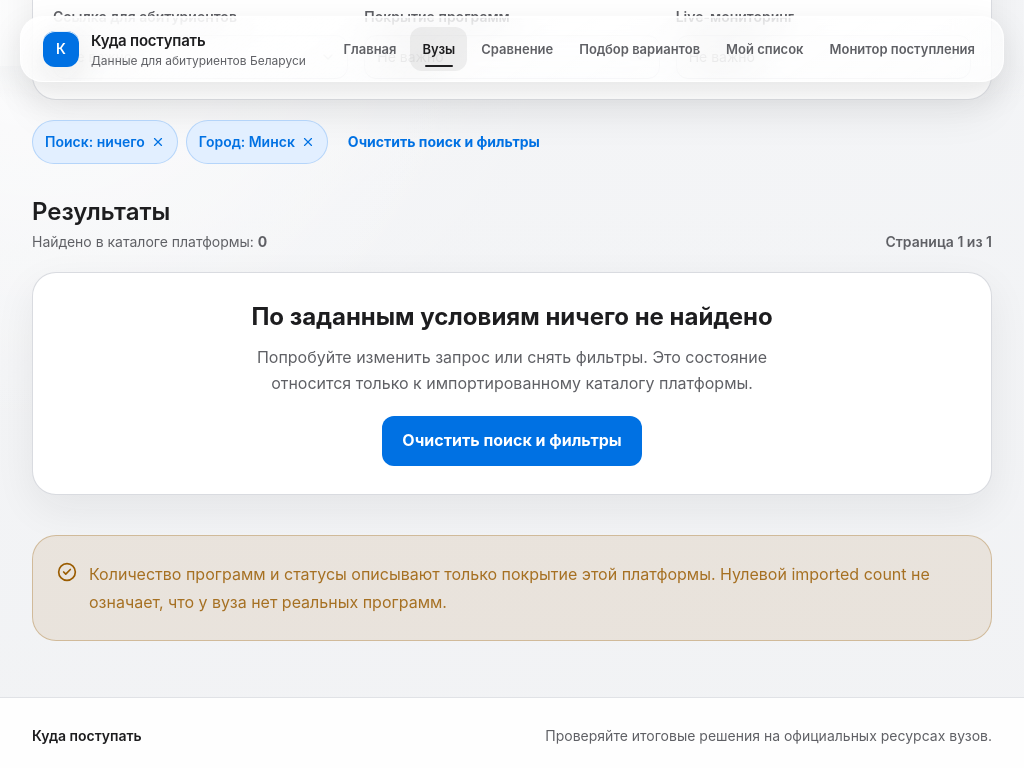
Test: loading, error and empty states › shows a distinct empty state and clears search and filters from it
The width and height of the screenshot is (1024, 768).
(page scrolled)
expect the heading "По заданным условиям ничего не найдено" is shown: met, box [251,302,773,331]
Click the button "Очистить поиск и фильтры" below "По заданным условиям ничего не найдено" at (512, 441), box [382,416,642,466]
(page scrolled)
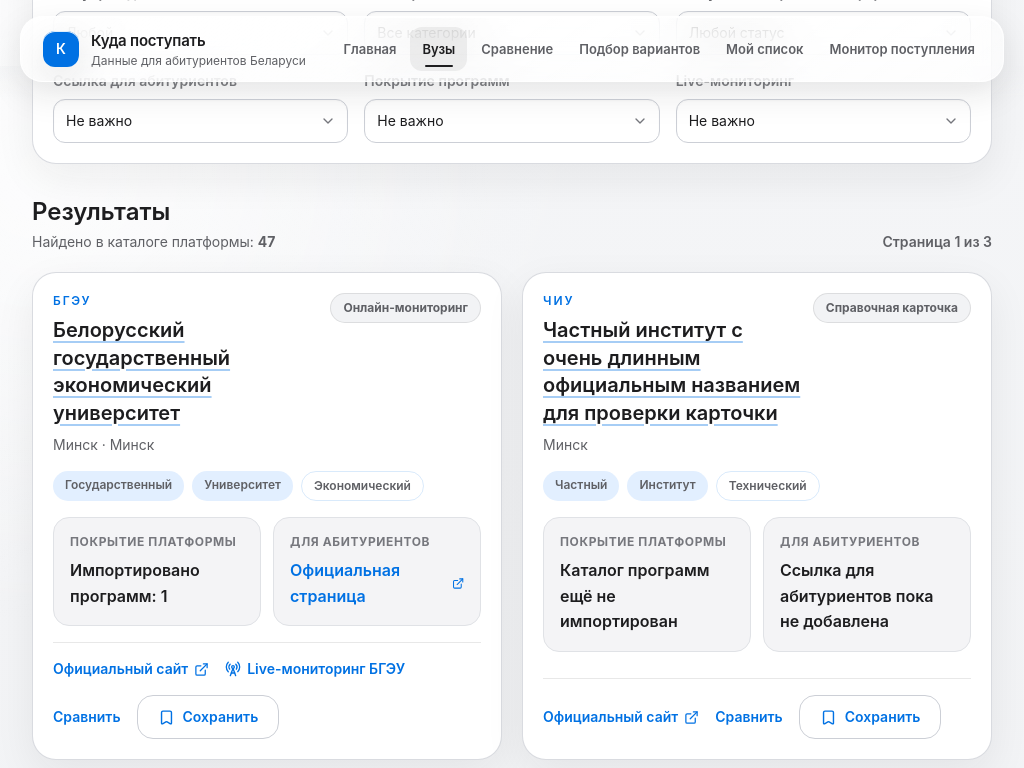
expect the text "Найдено в каталоге платформы: 47" is shown: met, box [32,232,276,252]
